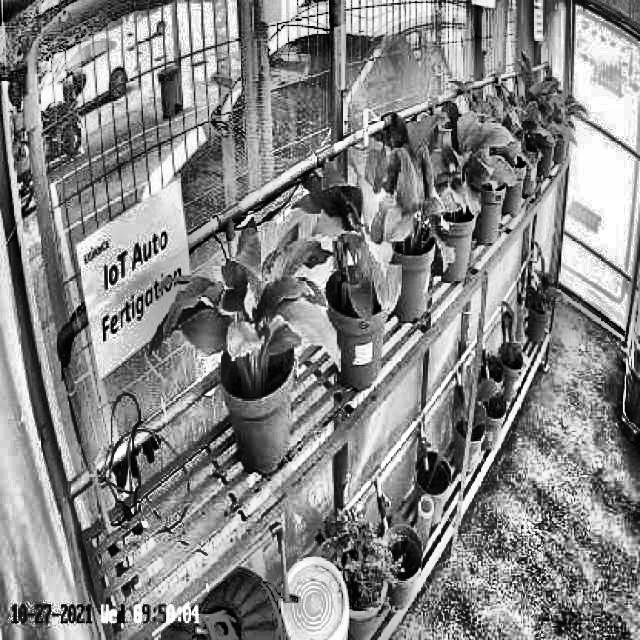plants: (152, 212, 340, 391), (299, 164, 401, 324), (367, 119, 456, 275), (414, 95, 516, 216)
